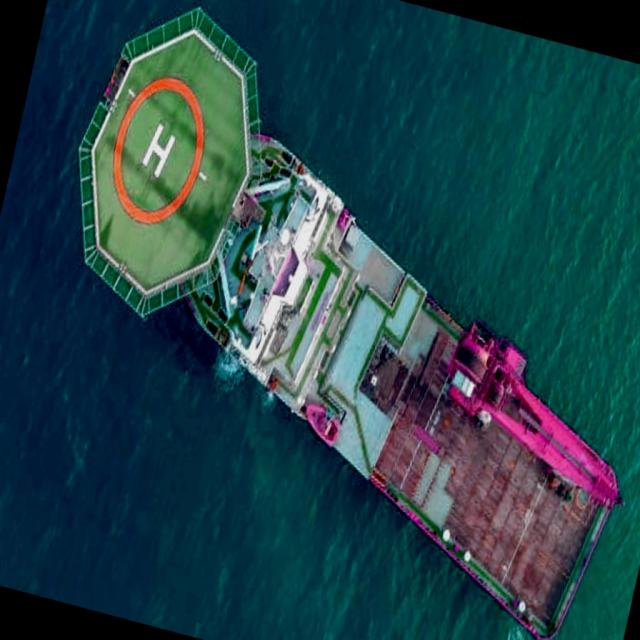helipad: (106, 72, 208, 227)
